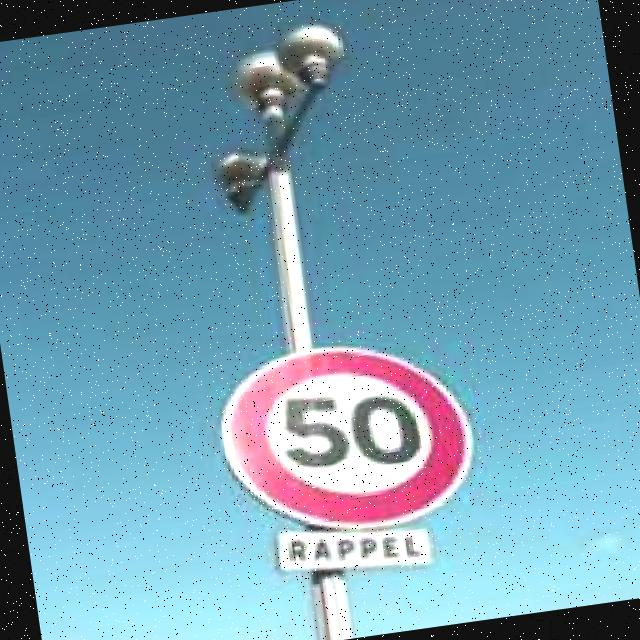Ograniczenie predkosci do 50: (210, 326, 480, 546)
